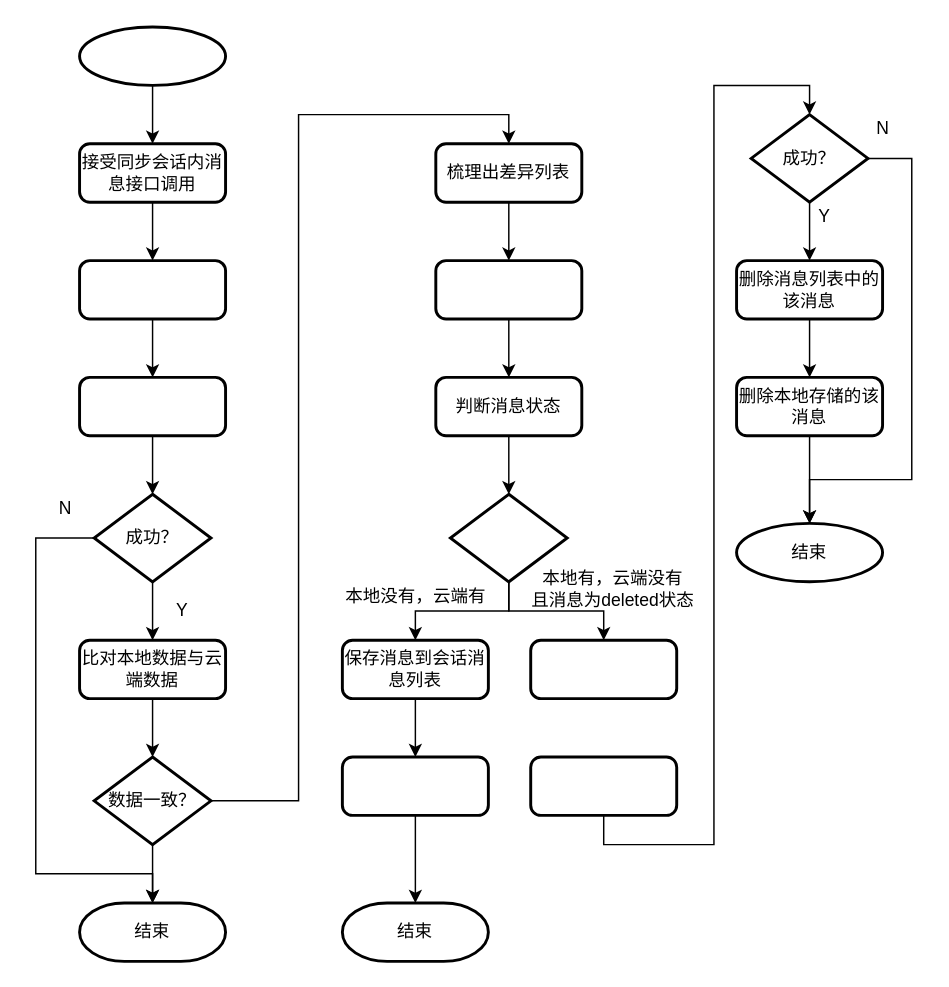
The diagram is 949 pixels wide and 987 high, and some of its shapes have lost their labels. Each missing label, with the centre of its shape:
开始: the point at 151,55
持久化存储该消息到本地: the point at 414,785
等待云服务执行结果: the point at 603,785
读取本地存储的该会话最新100条消息: the point at 151,289
调用云服务接口获取该会话最新100条消息: the point at 151,406
调用云服务接口，删除该消息: the point at 603,668
遍历列表: the point at 508,289
